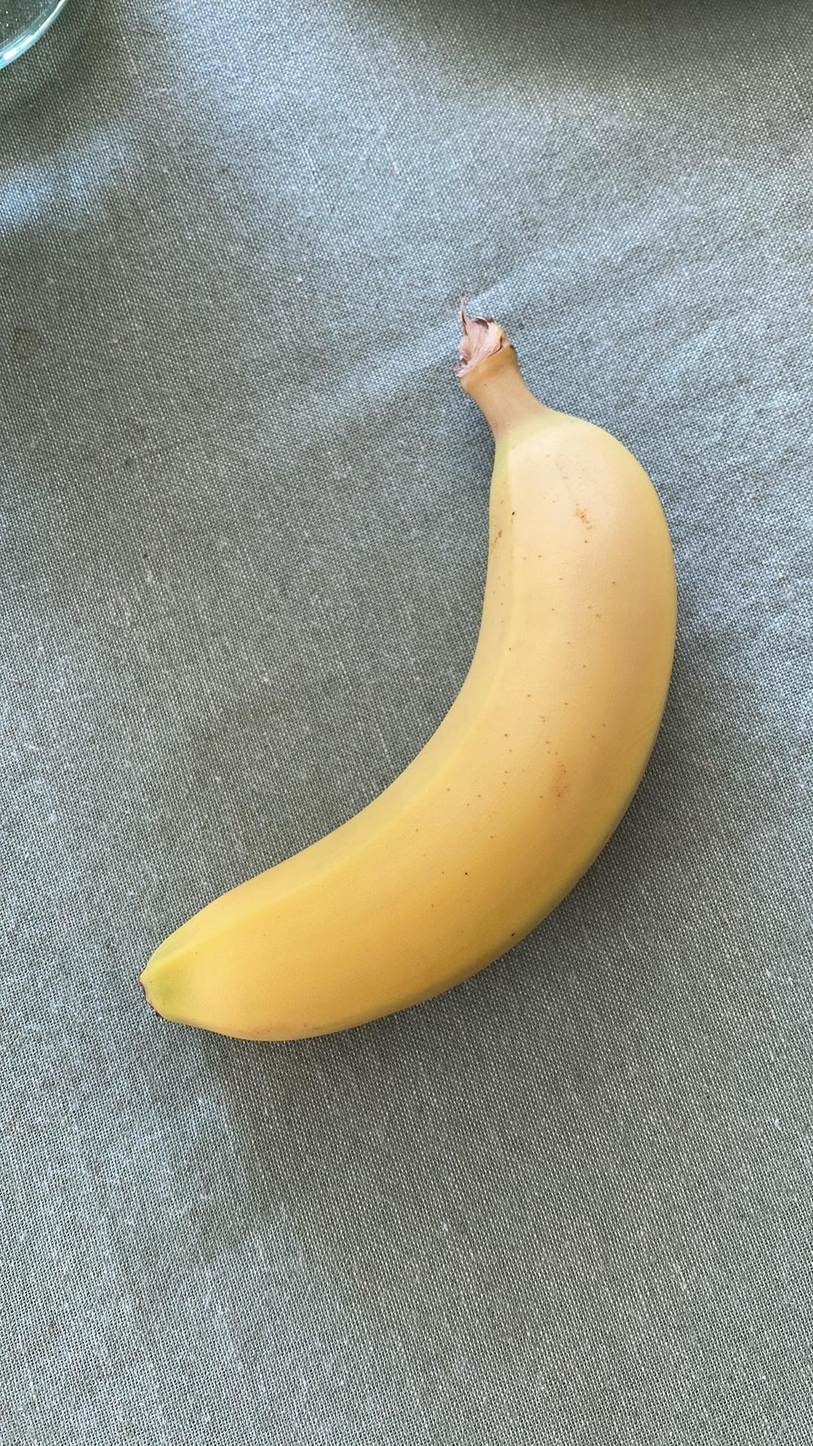banana: (135, 309, 689, 1049)
